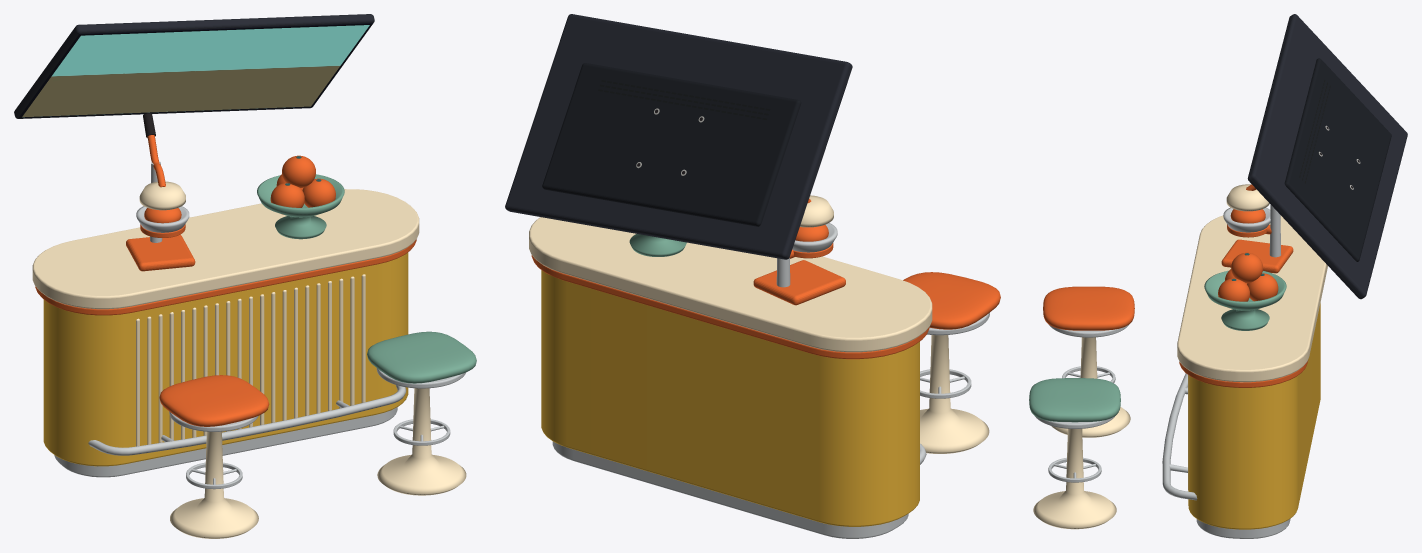
The model's file is citrus.glb.
3 renders of one model, left to right at view 1: azimuth 30°, elevation 25°; view 2: azimuth 150°, elevation 25°; view 3: azimuth 270°, elevation 25°, orthographic. The views are drawn at different scales.
Parts seen in each view (by area): view 1: Lemon cabinet, Countertop, TV / active picture.017, TV / active picture.016, TV / graphite frame.008, Vinyl button seat.001, Vinyl button seat, Flared enamel pedestal.001, Flared enamel pedestal, Inset toe kick, Chrome footrail, Tangerine edge (+20 smaller); view 2: Lemon cabinet, TV / graphite frame.008, TV / rear enclosure.008, Countertop, Inset toe kick, Flared enamel pedestal, Vinyl button seat, Tangerine edge, Cast press foot, TV / cooling louvres.008, Sorbet coupe, Press bell (+1 smaller); view 3: Lemon cabinet, Countertop, TV / graphite frame.008, TV / rear enclosure.008, Vinyl button seat, Vinyl button seat.001, Flared enamel pedestal.001, Sorbet coupe, Flared enamel pedestal, Chrome footrail, Cast press foot, Inset toe kick (+9 smaller).
Boxes of the visible parts, x1,y1,x2,y2 form: Lemon cabinet: (43, 252, 408, 466); Countertop: (32, 189, 419, 309); TV / active picture.017: (166, 25, 369, 111); TV / active picture.016: (22, 30, 224, 117); TV / graphite frame.008: (14, 14, 374, 118); Vinyl button seat.001: (367, 331, 476, 383); Vinyl button seat: (159, 375, 269, 426); Flared enamel pedestal.001: (377, 388, 466, 495); Flared enamel pedestal: (170, 431, 258, 538); Inset toe kick: (54, 407, 397, 477); Chrome footrail: (88, 385, 406, 455); Tangerine edge: (35, 239, 416, 315); Lemon cabinet: (541, 270, 919, 526); TV / graphite frame.008: (505, 14, 852, 259); TV / rear enclosure.008: (542, 63, 801, 226); Countertop: (529, 217, 932, 352); Inset toe kick: (552, 441, 908, 538); Flared enamel pedestal: (920, 335, 989, 453); Vinyl button seat: (903, 272, 1000, 329); Tangerine edge: (531, 255, 929, 359); Cast press foot: (753, 260, 845, 305); TV / cooling louvres.008: (598, 80, 770, 119); Sorbet coupe: (629, 234, 686, 256); Press bell: (800, 195, 833, 227); Lemon cabinet: (1188, 303, 1320, 529); Countertop: (1177, 209, 1327, 382); TV / graphite frame.008: (1247, 14, 1407, 299); TV / rear enclosure.008: (1284, 58, 1391, 261); Vinyl button seat: (1043, 286, 1134, 330); Vinyl button seat.001: (1029, 378, 1120, 422); Flared enamel pedestal.001: (1033, 429, 1116, 529); Sorbet coupe: (1204, 270, 1286, 330); Flared enamel pedestal: (1051, 337, 1130, 437); Chrome footrail: (1162, 373, 1197, 500); Cast press foot: (1221, 239, 1293, 273); Inset toe kick: (1196, 518, 1290, 538).
Size of the model in its own units: 6.34 by 7.22 by 6.27.
Materials: 14 (2 with a texture image).
